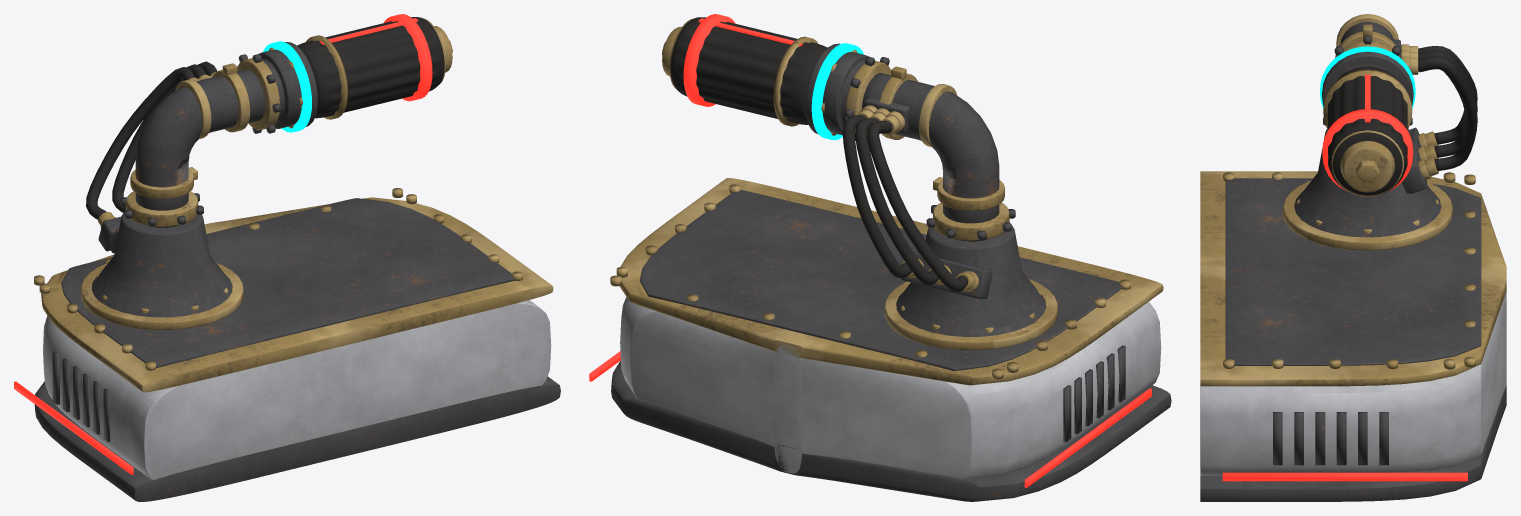
The model's file is handle_controller_draco.glb.
3 renders of one model, left to right at view 1: azimuth 30°, elevation 25°; view 2: azimuth 150°, elevation 25°; view 3: azimuth 270°, elevation 25°, orthographic. The views are drawn at different scales.
Parts seen in each view (by area): view 1: Deck_R_Body, Deck_R_TopPlate, Deck_R_Trim, Deck_R_Skirt, Handle_R_Base, Handle_R_Grip, Handle_R_Elbow, Handle_R_Cables, Handle_R_BasePlate, Handle_R_Clamps, Handle_R_PipeRings, Handle_R_Collar (+7 smaller); view 2: Deck_R_Body, Deck_R_TopPlate, Deck_R_Trim, Deck_R_Skirt, Handle_R_Grip, Handle_R_Base, Handle_R_Elbow, Handle_R_Cables, Handle_R_BasePlate, Deck_R_Vents, Handle_R_Clamps, Handle_R_Collar (+9 smaller); view 3: Deck_R_TopPlate, Deck_R_Body, Deck_R_Trim, Deck_R_Skirt, Handle_R_Base, Handle_R_Grip, Handle_R_Cables, Handle_R_BasePlate, Deck_R_Vents, Deck_R_RedLine, Handle_R_EndCap, Handle_R_Collar (+8 smaller).
Boxes of the visible parts, <box> form: Deck_R_Body: <box>43,300,551,480</box>; Deck_R_TopPlate: <box>61,198,515,368</box>; Deck_R_Trim: <box>41,197,553,392</box>; Deck_R_Skirt: <box>34,376,560,501</box>; Handle_R_Base: <box>91,212,232,317</box>; Handle_R_Grip: <box>297,17,444,118</box>; Handle_R_Elbow: <box>135,69,264,227</box>; Handle_R_Cables: <box>86,61,217,219</box>; Handle_R_BasePlate: <box>81,262,243,329</box>; Handle_R_Clamps: <box>130,63,250,198</box>; Handle_R_PipeRings: <box>126,58,279,226</box>; Handle_R_Collar: <box>259,42,317,128</box>; Deck_R_Body: <box>620,297,1161,479</box>; Deck_R_TopPlate: <box>639,190,1121,370</box>; Deck_R_Trim: <box>619,178,1163,385</box>; Deck_R_Skirt: <box>611,360,1171,501</box>; Handle_R_Grip: <box>670,17,827,124</box>; Handle_R_Base: <box>896,225,1046,336</box>; Handle_R_Elbow: <box>861,73,999,241</box>; Handle_R_Cables: <box>842,115,968,291</box>; Handle_R_BasePlate: <box>884,279,1057,350</box>; Deck_R_Vents: <box>1063,345,1125,442</box>; Handle_R_Clamps: <box>879,66,1004,210</box>; Handle_R_Collar: <box>805,43,868,135</box>; Deck_R_TopPlate: <box>1225,178,1481,365</box>; Deck_R_Body: <box>1200,291,1506,475</box>; Deck_R_Trim: <box>1200,171,1506,386</box>; Deck_R_Skirt: <box>1200,385,1506,501</box>; Handle_R_Base: <box>1294,129,1441,237</box>; Handle_R_Grip: <box>1328,66,1407,196</box>; Handle_R_Cables: <box>1418,46,1477,171</box>; Handle_R_BasePlate: <box>1282,180,1452,250</box>; Deck_R_Vents: <box>1273,412,1388,465</box>; Deck_R_RedLine: <box>1222,472,1467,481</box>; Handle_R_EndCap: <box>1340,140,1394,192</box>; Handle_R_Collar: <box>1322,51,1413,105</box>.
Size of the model in its own units: 0.628 by 0.4885 by 0.375.
6 materials, 4 textured.
